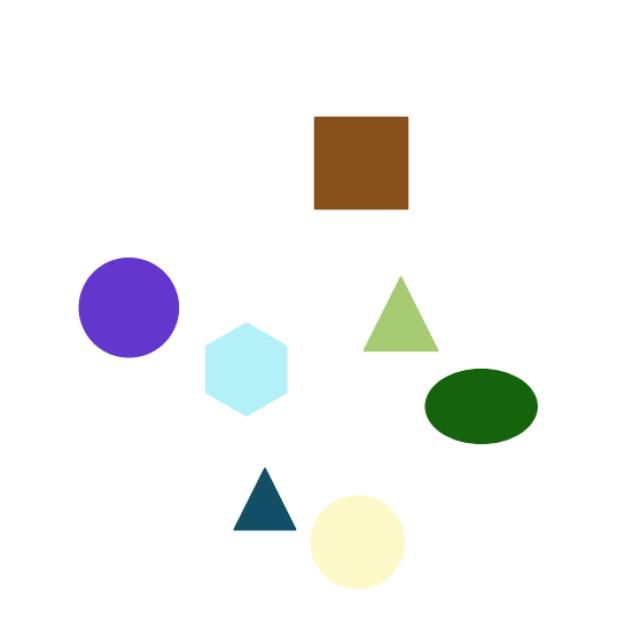Circle: (60, 248, 182, 368)
Hexagon: (191, 312, 301, 421)
Oval: (406, 362, 568, 451)
Triangle: (350, 269, 449, 369), (204, 458, 311, 548)
square: (284, 109, 451, 242)
